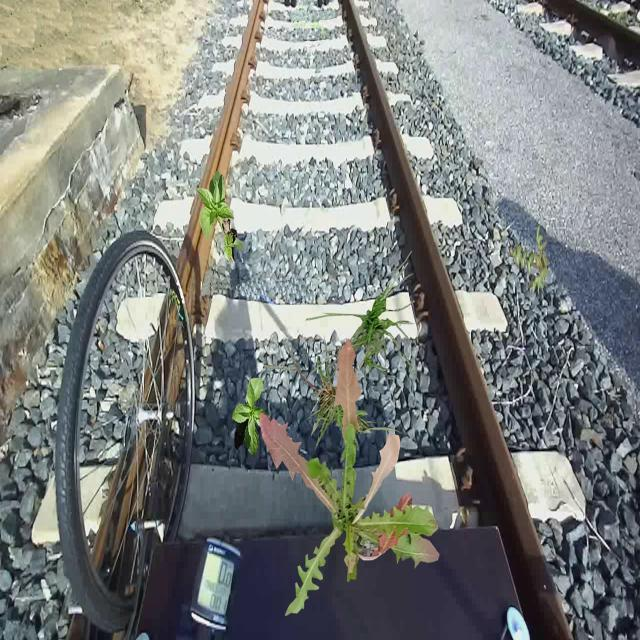Plant: (260, 338, 440, 616), (304, 251, 422, 414), (263, 334, 406, 454), (196, 170, 244, 265), (232, 378, 274, 458), (509, 224, 550, 296)
